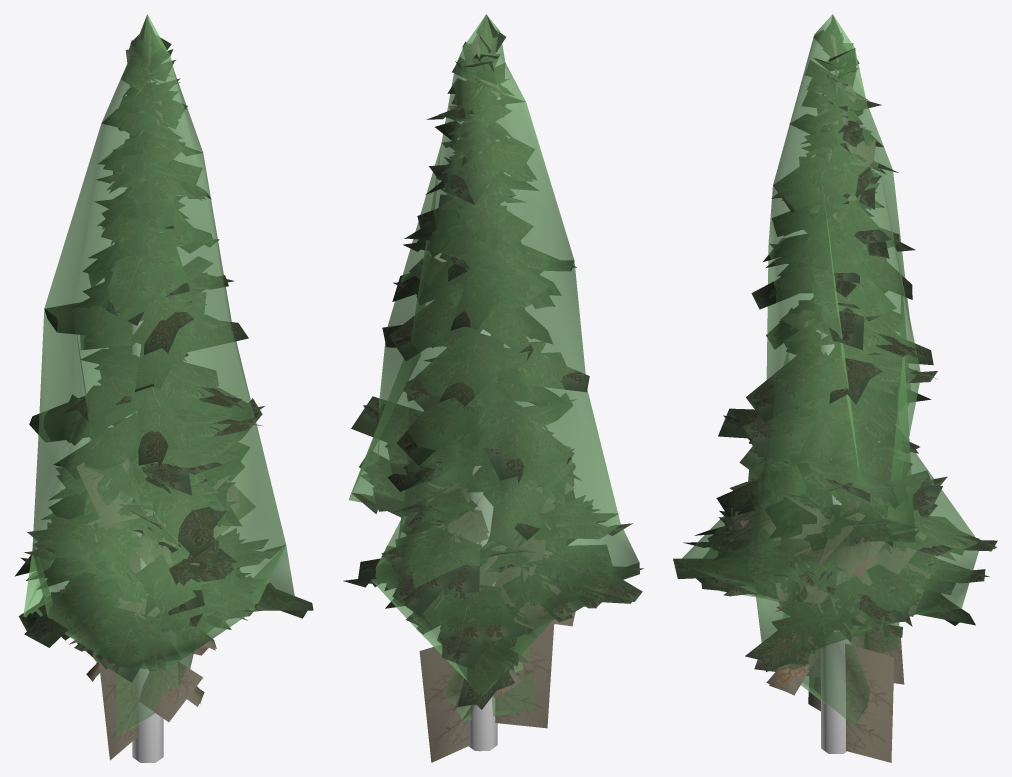
Rendered from tree_douglasfir_large_b.dae.
3 views of the same model, side by side, from view 1: azimuth 30°, elevation 25°; view 2: azimuth 150°, elevation 25°; view 3: azimuth 270°, elevation 25° (orthographic).
Visible parts, largest first — view 1: Colmesh_large_b-1, tree_douglasfir_large_b_a400, tree_douglasfir_large_b_a1300, tree_douglasfir_large_b_a800; view 2: Colmesh_large_b-1, tree_douglasfir_large_b_a400, tree_douglasfir_large_b_a1300, tree_douglasfir_large_b_a800; view 3: Colmesh_large_b-1, tree_douglasfir_large_b_a400, tree_douglasfir_large_b_a1300, tree_douglasfir_large_b_a800.
Part boxes in pixels (x1,y1,x2,y2): Colmesh_large_b-1: (23, 15, 295, 762); tree_douglasfir_large_b_a400: (14, 35, 313, 760); tree_douglasfir_large_b_a1300: (18, 16, 313, 706); tree_douglasfir_large_b_a800: (25, 14, 274, 644); Colmesh_large_b-1: (348, 14, 638, 750); tree_douglasfir_large_b_a400: (351, 20, 643, 762); tree_douglasfir_large_b_a1300: (343, 17, 640, 728); tree_douglasfir_large_b_a800: (351, 14, 643, 751); Colmesh_large_b-1: (677, 14, 978, 753); tree_douglasfir_large_b_a400: (673, 21, 995, 711); tree_douglasfir_large_b_a1300: (676, 19, 997, 762); tree_douglasfir_large_b_a800: (707, 14, 996, 762).
Size of the model in its own units: 7.95 by 8.55 by 21.38.
